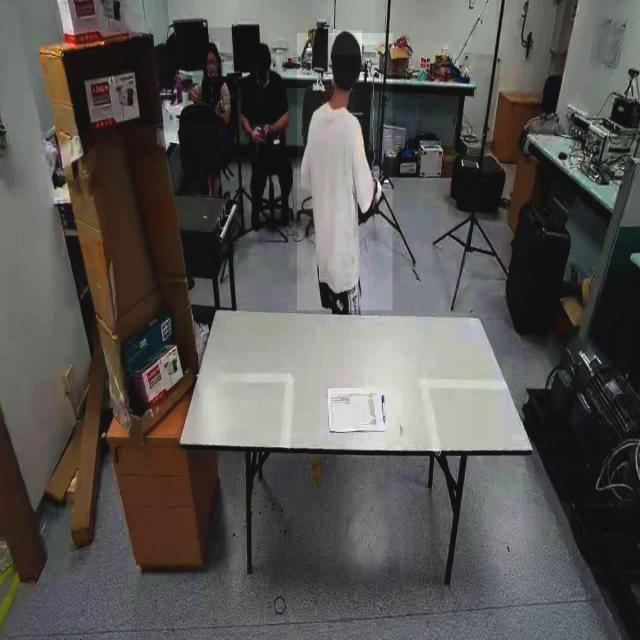face_nomask: (207, 54, 220, 76)
hand_noglove: (252, 124, 267, 144), (263, 120, 273, 141)
head_nohelmet: (332, 30, 362, 56), (255, 41, 272, 62), (204, 41, 220, 53)
person: (296, 33, 392, 311), (239, 36, 289, 230), (185, 28, 237, 126)
